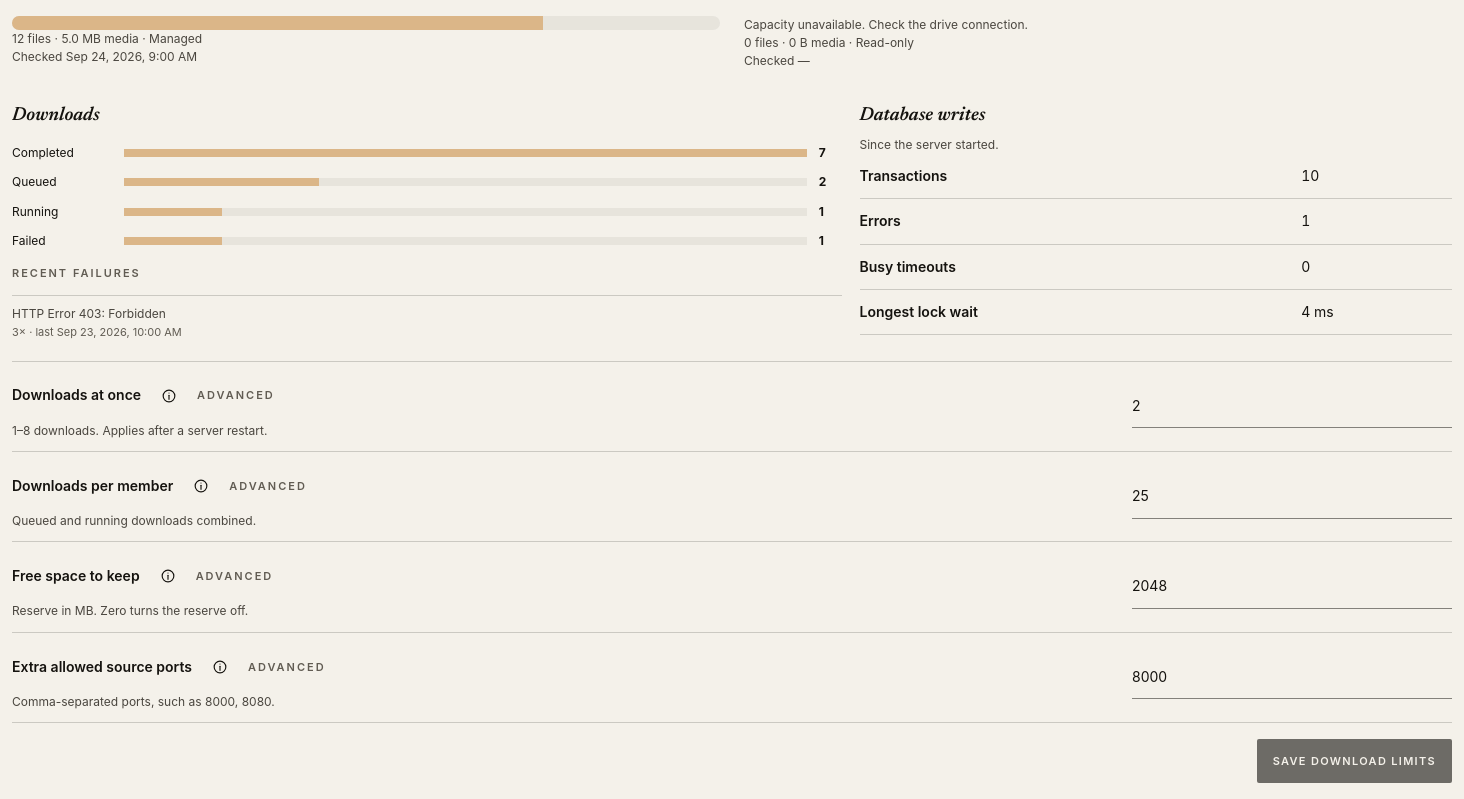
Test: admin overview › saves extra source ports only when changed, and refuses text that is not port numbers before sending
(page scrolled)
Type ", icecast" into the field named "Extra allowed source ports".
click(1292, 677); type(", icecast")  # box [1132,655,1452,699]
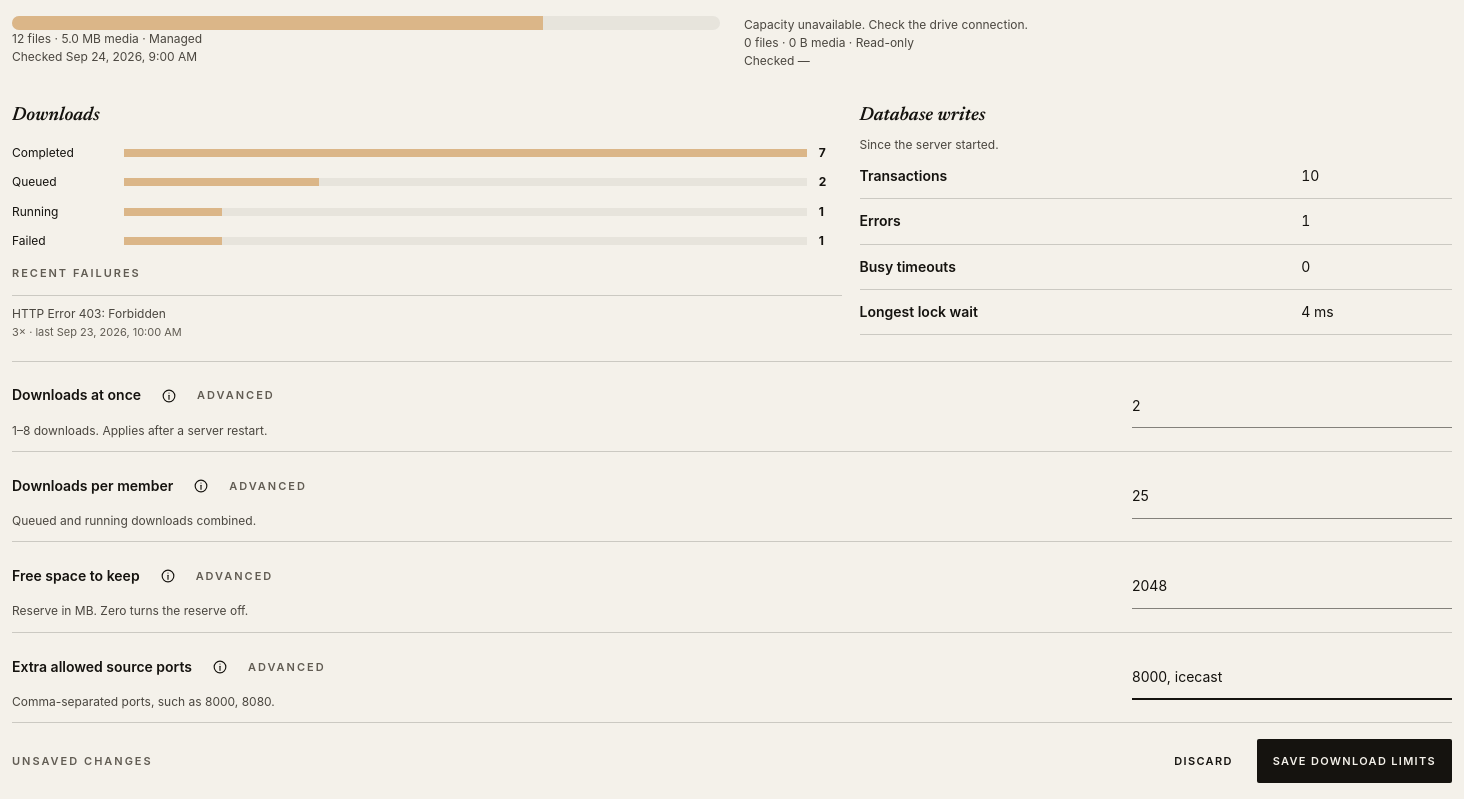
Click the button "Save download limits".
click(1354, 761)  # box [1257,739,1452,783]
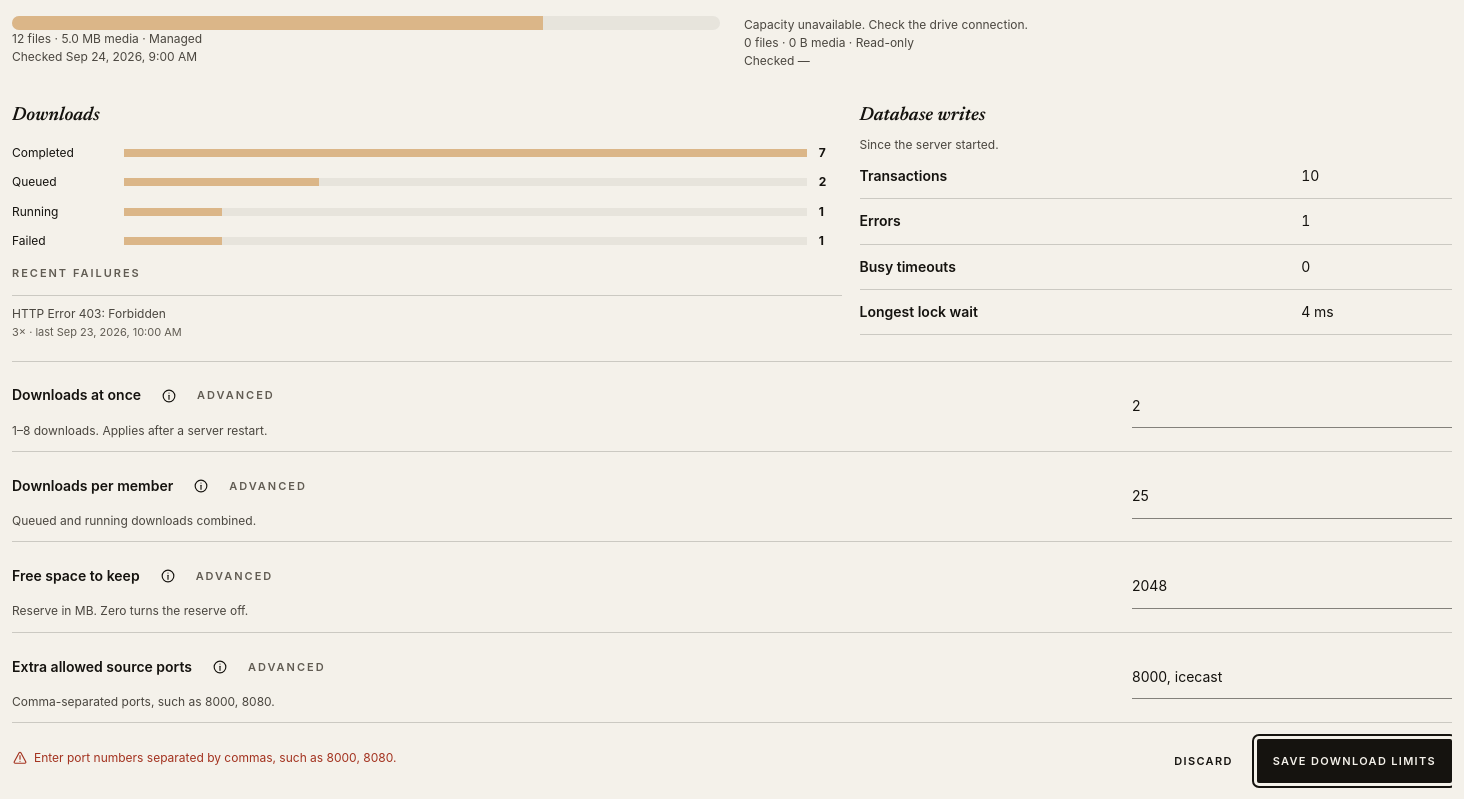
Expected: the text "Enter port numbers separated by commas, such as 8000, 8080." is shown, [34,749,396,766]
Replace the text in the field named "Extra allowed source ports" with "8080 8000" at (1292, 677), box [1132,655,1452,699]
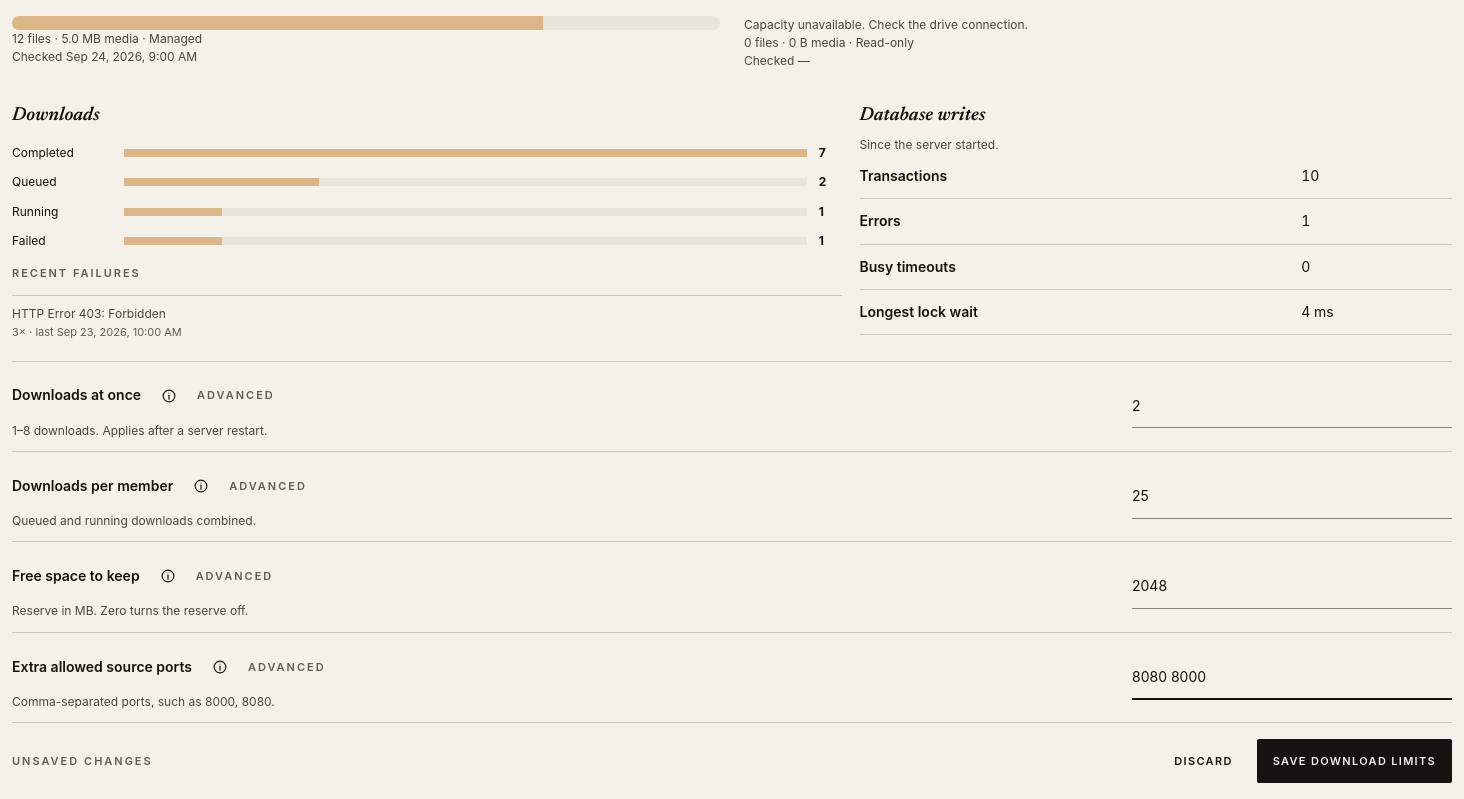
Click the button "Save download limits".
click(1354, 761)  # box [1257,739,1452,783]
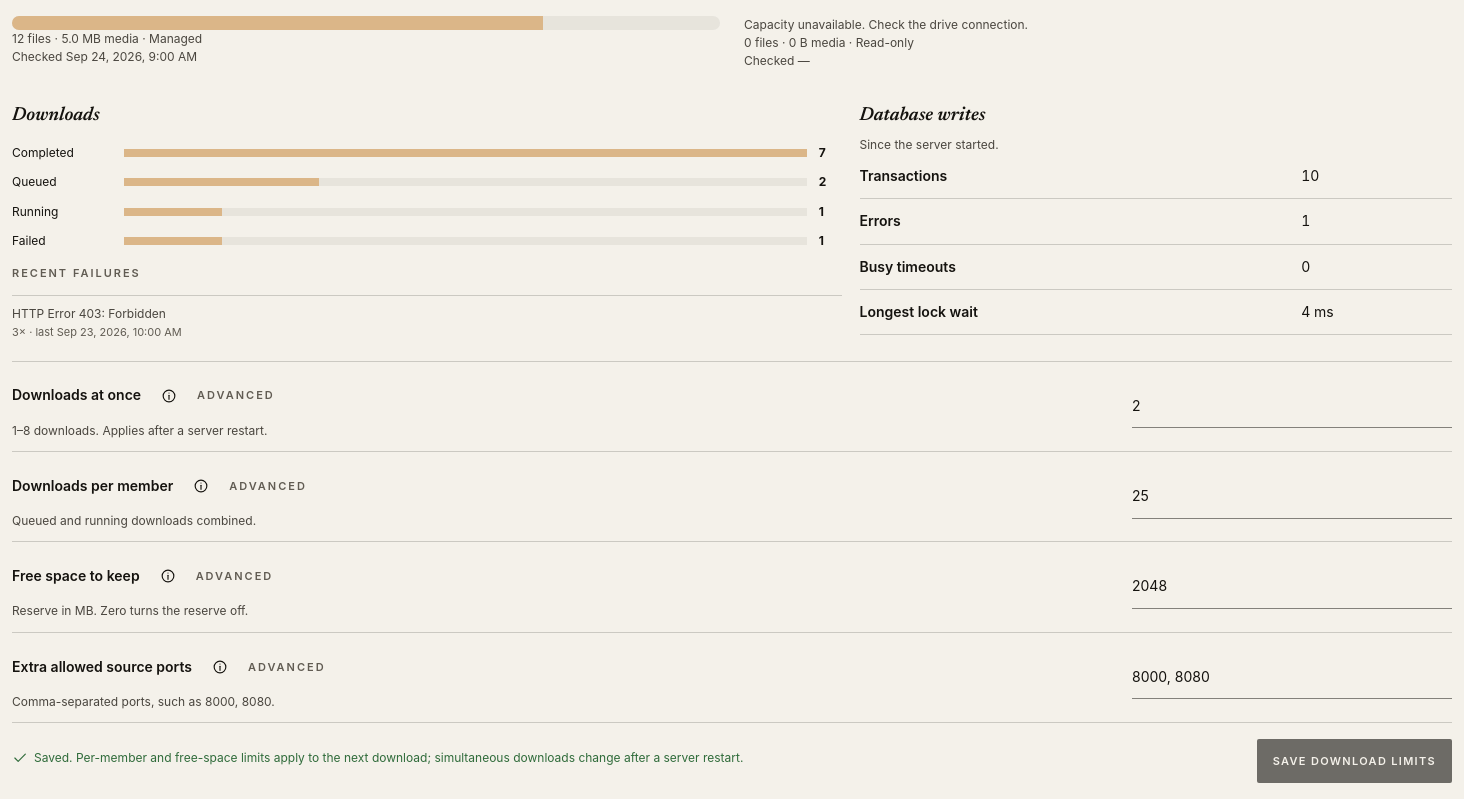
Expected: the text "Saved." is shown, [34,750,743,765]
Expected: the field named "Extra allowed source ports" holds "8000, 8080", [1132,655,1452,699]
